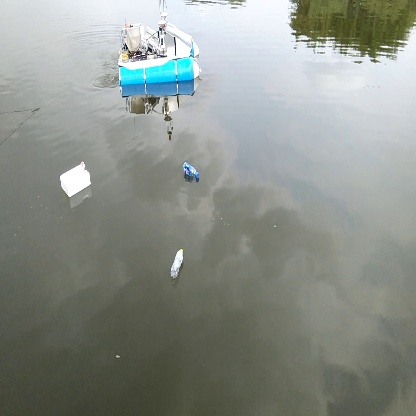bottle: (170, 246, 185, 282), (181, 160, 201, 184)
plastic-garbage: (57, 163, 96, 200)
